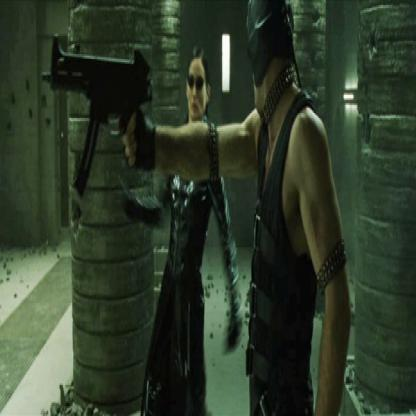Gun: (40, 30, 151, 203)
